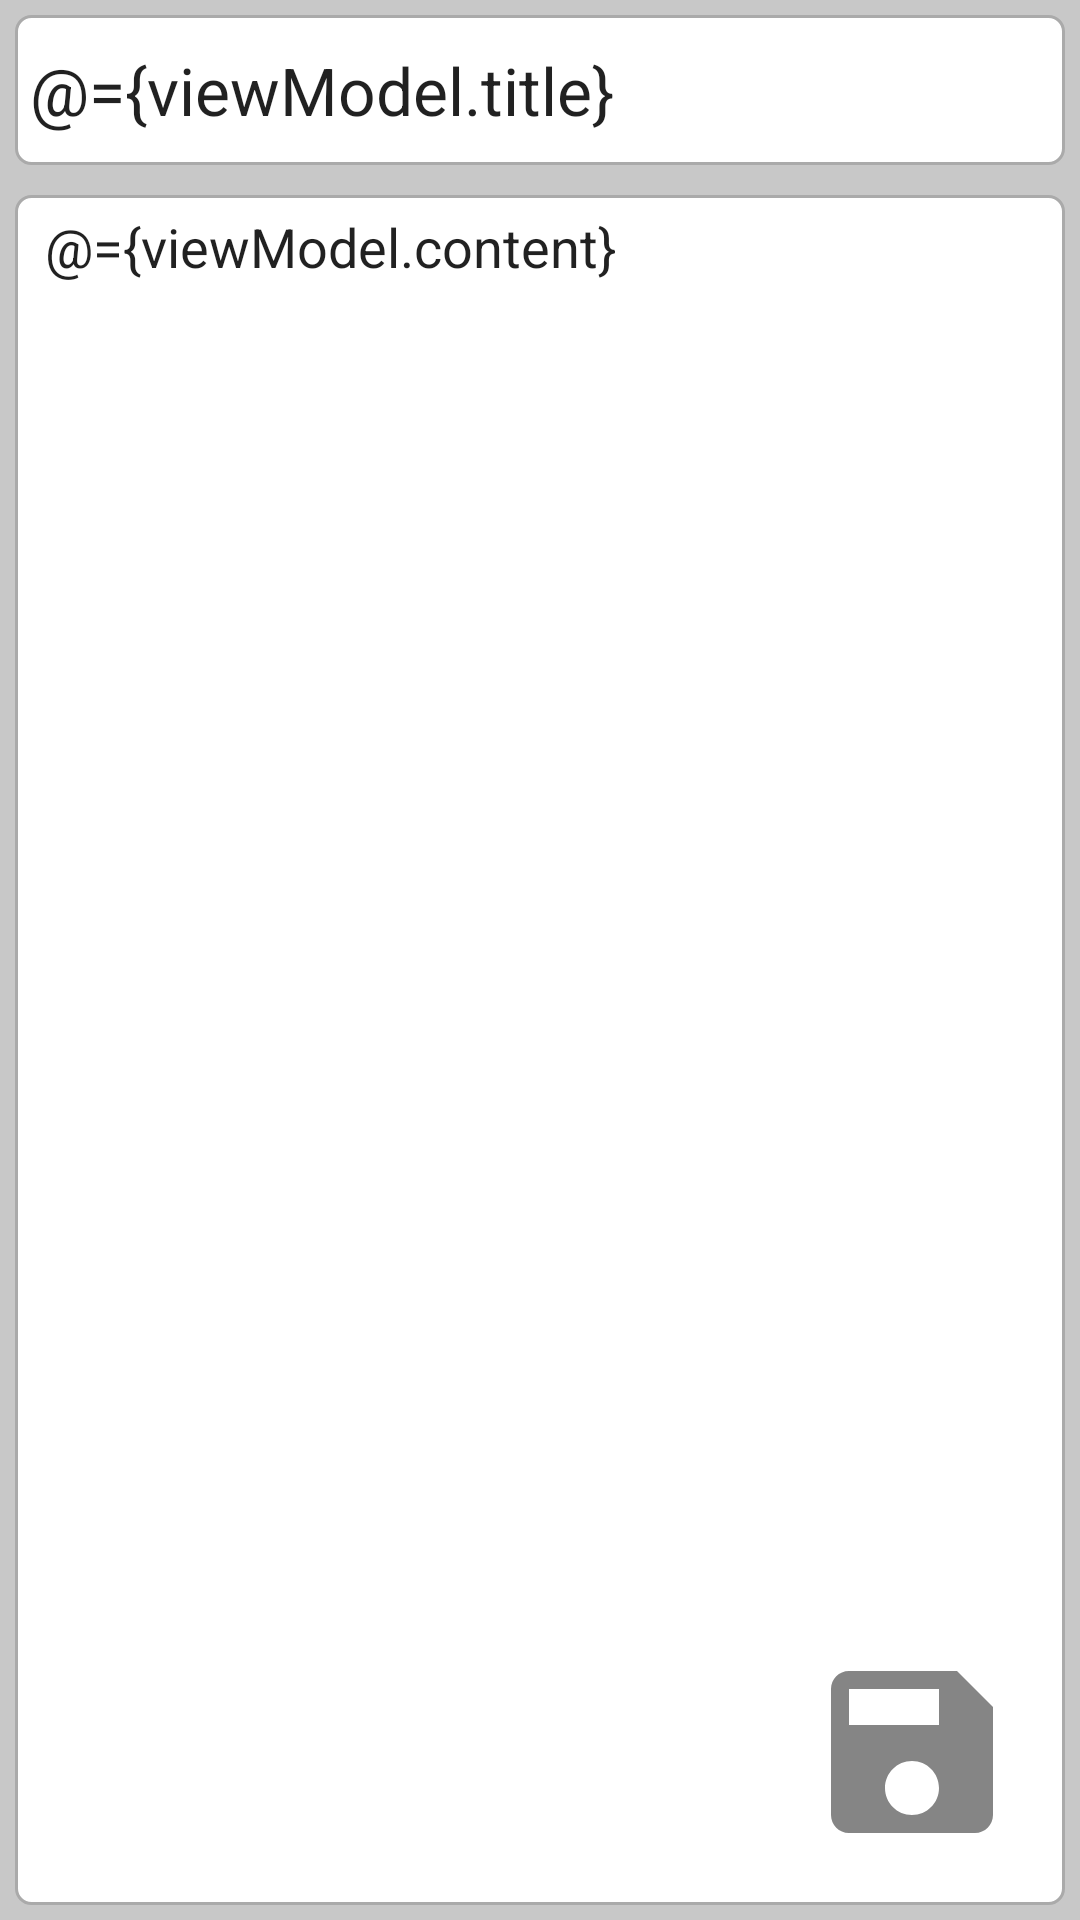

Where to tap for icons on this 1080×1920 app screen, as point (x, y):
save: point (912, 1752)
